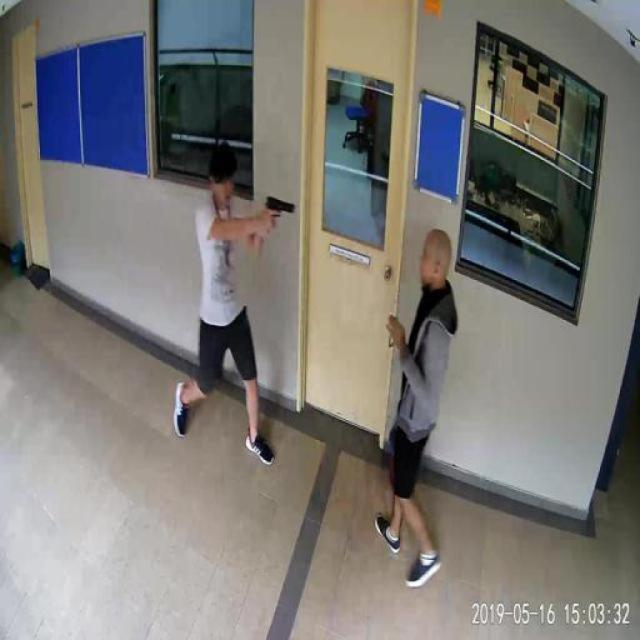pistol: (264, 192, 292, 228)
